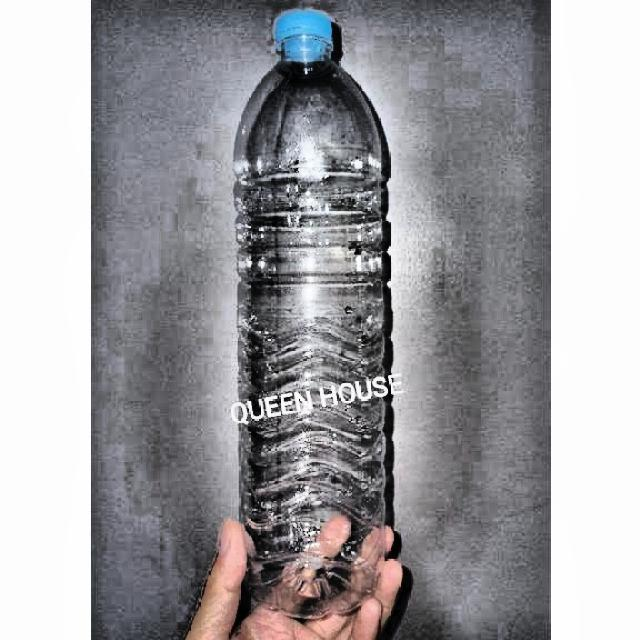Bottles: (186, 10, 413, 627)
